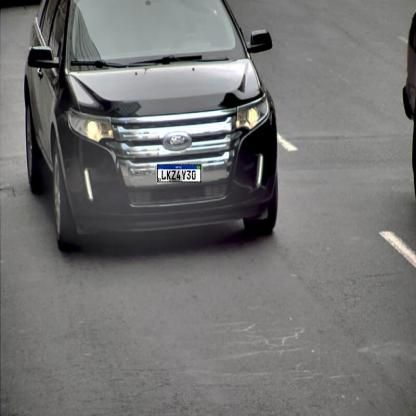PlacaM: (157, 165, 201, 182)
